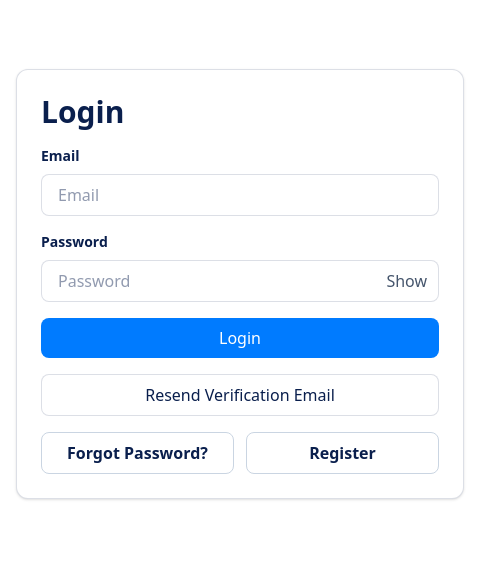
Test: LoginPage › shows a connection error when fetch rejects
Type "sean@example.com" into the field labelled "Email" at (240,195), box [41,174,439,216]
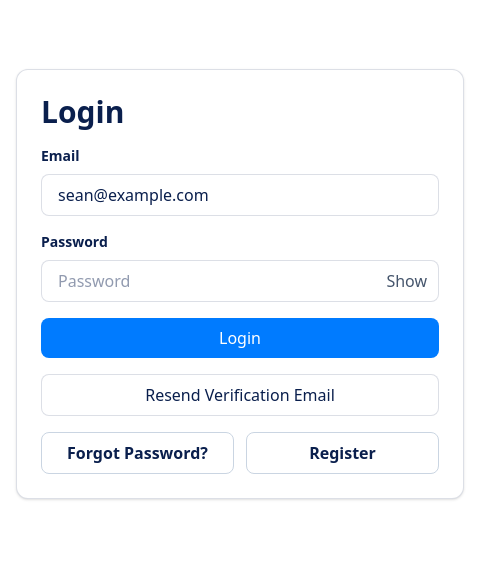
Type "Password123!" into the password field with placeholder "Password" at (240,281), box [41,260,439,302]
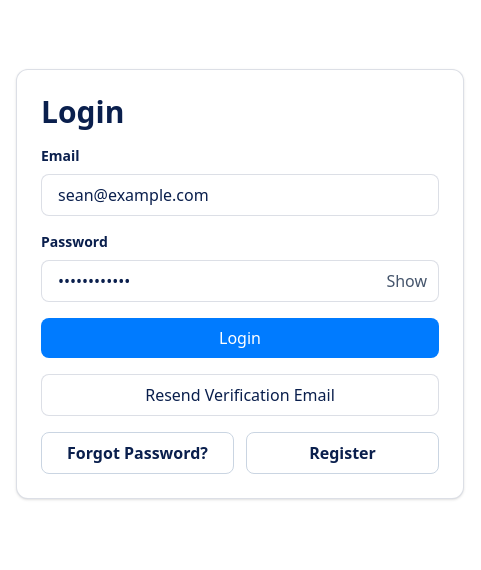
Click the button "Login" at (240,338), box [41,318,439,358]
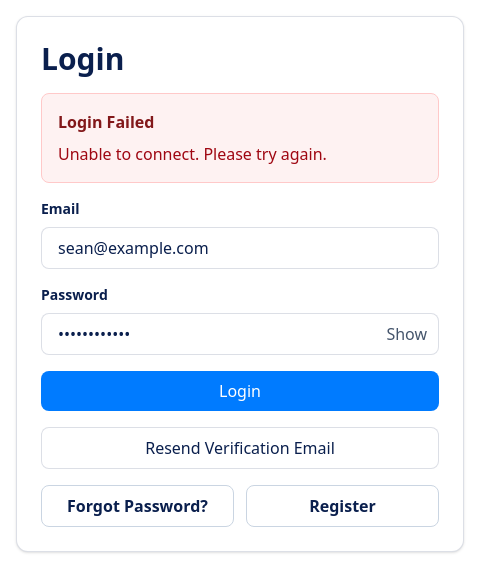
expect the text "Unable to connect. Please try again." is shown: met, box [58,143,327,165]
